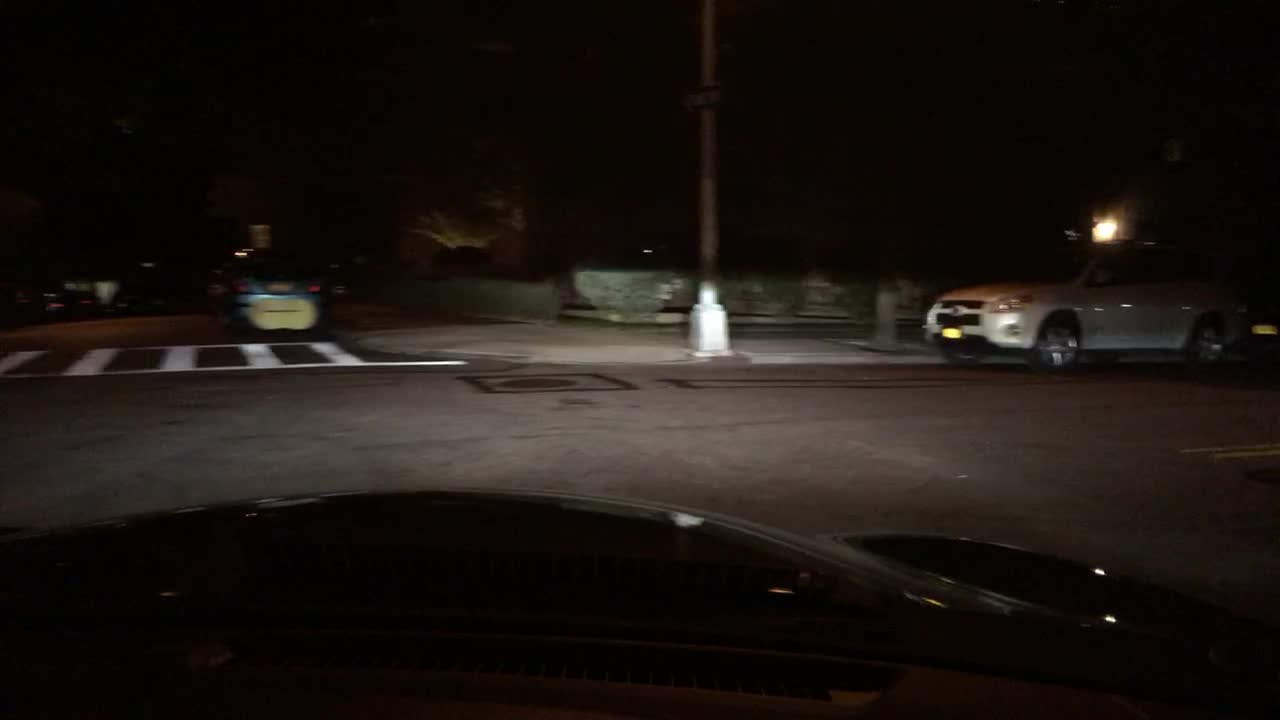car: (920, 237, 1252, 371), (227, 247, 321, 335), (36, 281, 103, 318), (207, 262, 227, 311)
